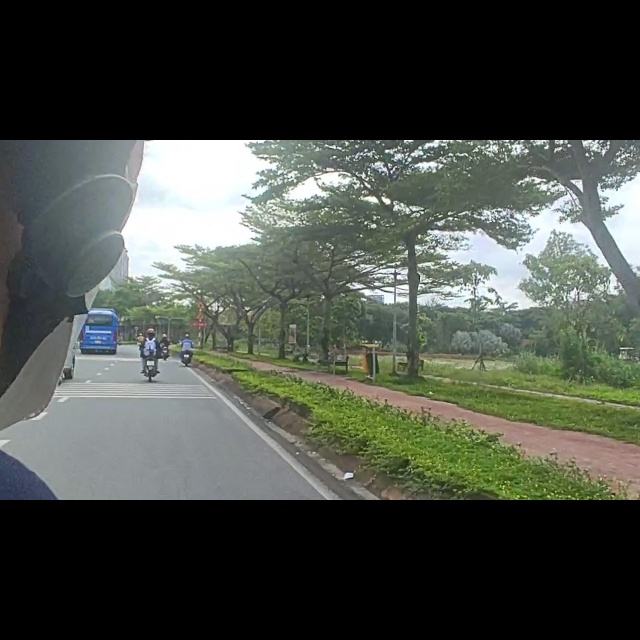bien_nguy_hiem: (194, 303, 205, 319)
